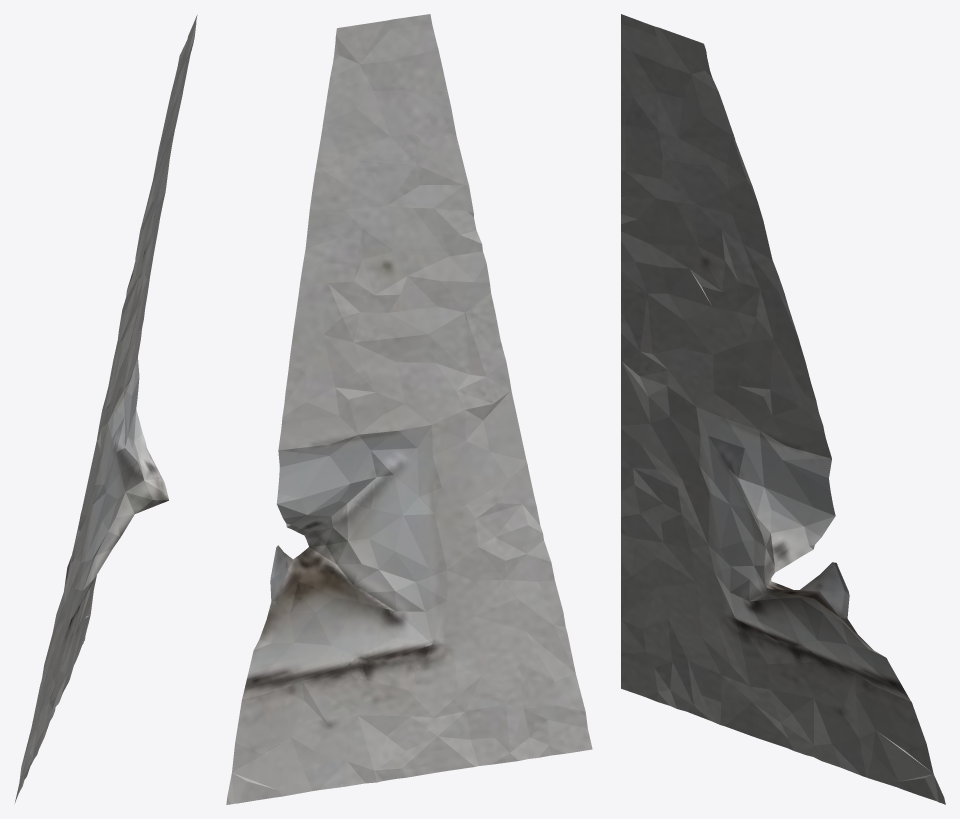
3 views of the same model, side by side, from view 1: azimuth 30°, elevation 25°; view 2: azimuth 150°, elevation 25°; view 3: azimuth 270°, elevation 25° (orthographic). The views are drawn at different scales.
Size of the model in its own units: 0.2743 by 0.8374 by 0.3238.
Materials: 1 (1 with a texture image).
